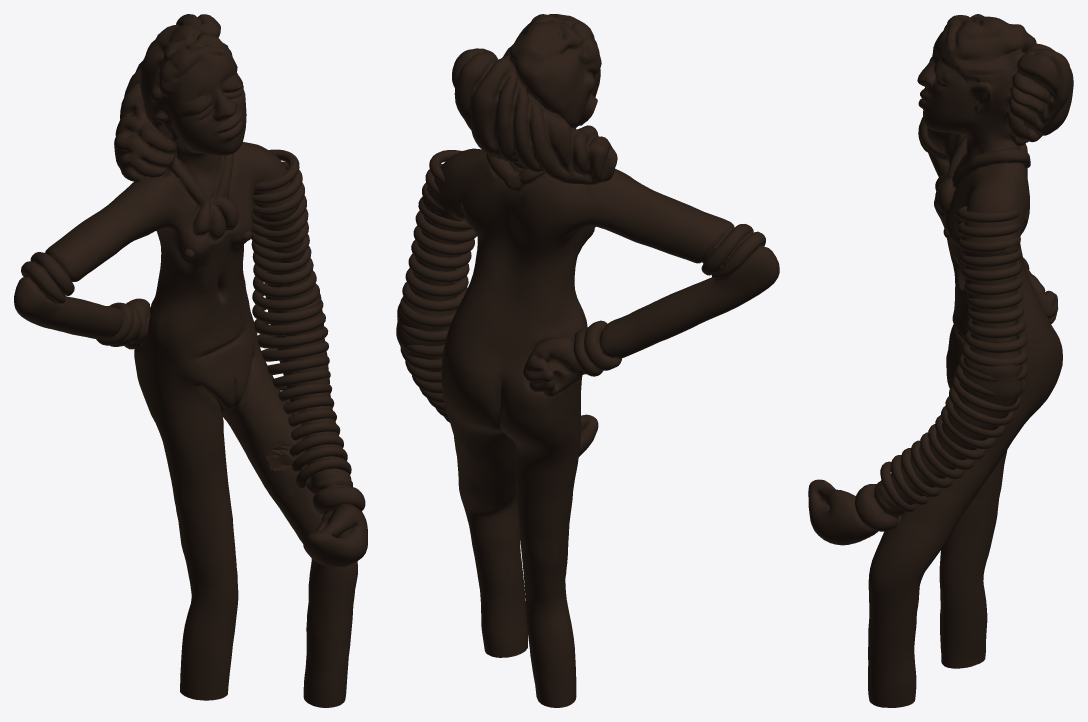
Rendered from dancing-girl-lo.glb.
3 renders of one model, left to right at view 1: azimuth 30°, elevation 25°; view 2: azimuth 150°, elevation 25°; view 3: azimuth 270°, elevation 25°, orthographic. The views are drawn at different scales.
Visible parts, largest first — view 1: dancing_girl_lo; view 2: dancing_girl_lo; view 3: dancing_girl_lo.
Boxes of the visible parts, x1,y1,x2,y2 form: dancing_girl_lo: (14, 14, 367, 707); dancing_girl_lo: (396, 14, 779, 707); dancing_girl_lo: (808, 14, 1073, 707).
Bounding box in the file's own units: 0.0744 × 0.14 × 0.0525.
